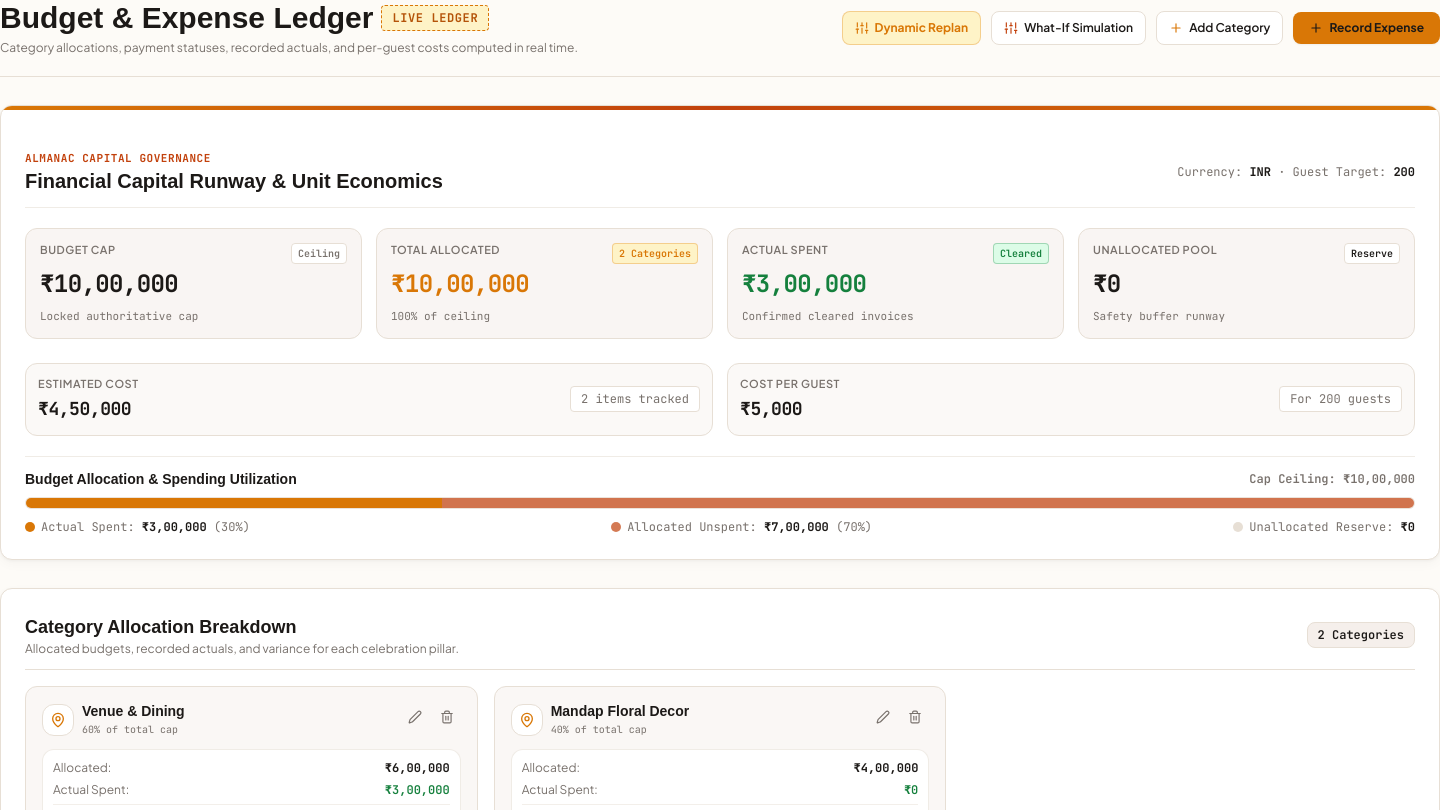
it: BudgetLedgerTab Component › opens expense modal when clicking Record Expense
What coordinates should you click on to do the following:
click the button "Record Expense"
I would click on:
 (1367, 28)
Its box is [1293,12,1439,44].
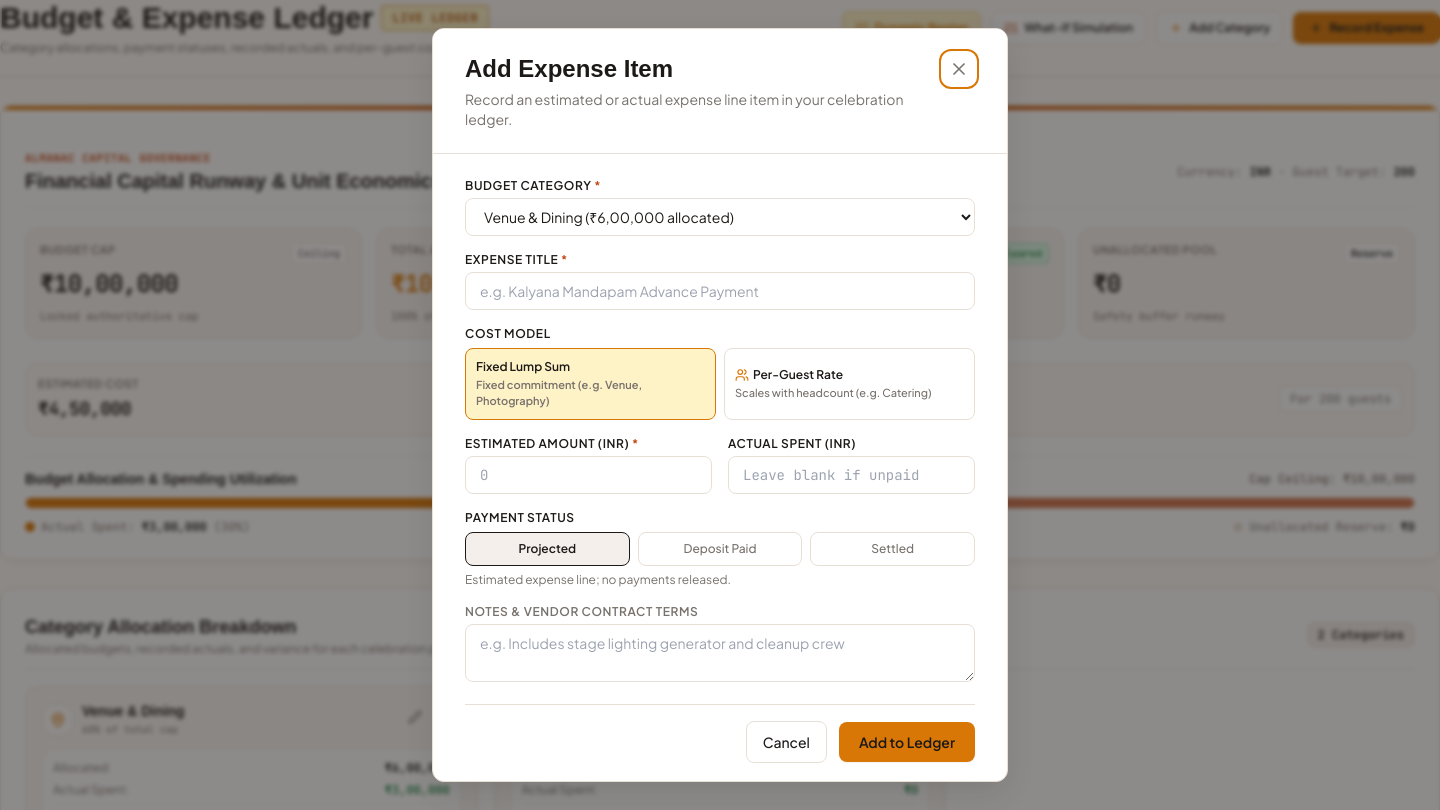
Now the heading "Add Expense Item" is shown, box [465,55,673,82]
